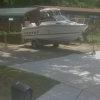Boat: (15, 1, 87, 47)
